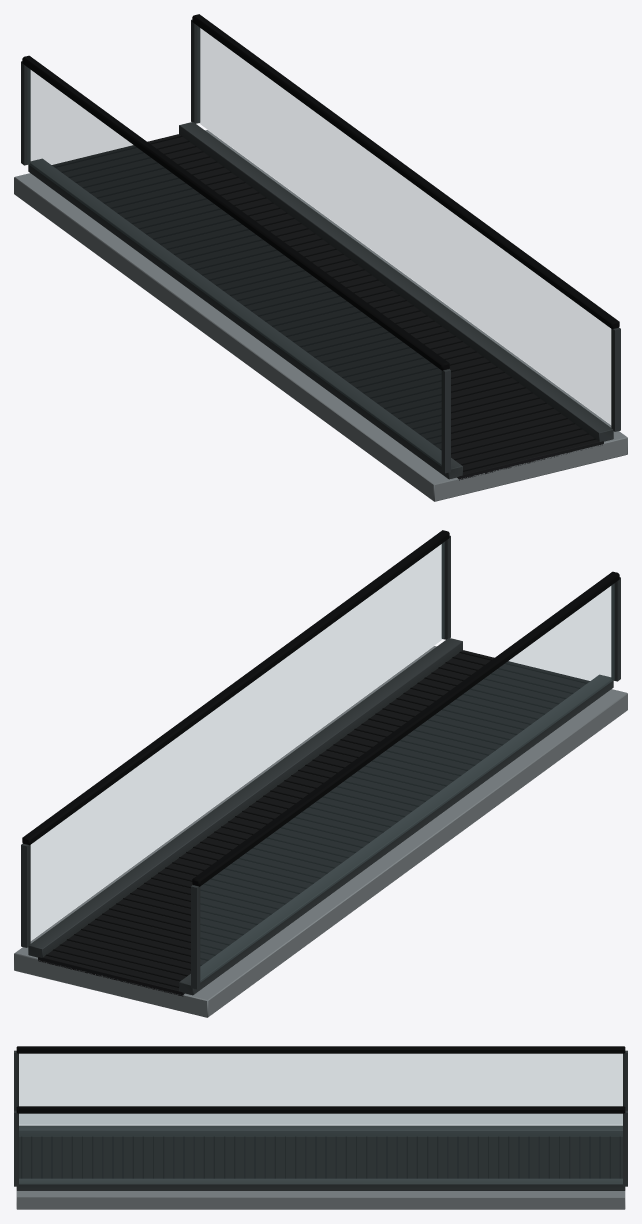
File: ap-travelator.glb
3 views of the same model, one above another, from view 1: azimuth 30°, elevation 25°; view 2: azimuth 150°, elevation 25°; view 3: azimuth 270°, elevation 25° (orthographic). The views are drawn at different scales.
Parts seen in each view (by area): view 1: balustrade__glass, belt__rubber, frame__steel, handrail__rubber; view 2: balustrade__glass, belt__rubber, frame__steel, handrail__rubber; view 3: balustrade__glass, frame__steel, belt__rubber, handrail__rubber.
Part boxes in pixels (<box>): balustrade__glass: <box>27,26,610,465</box>; belt__rubber: <box>52,134,603,480</box>; frame__steel: <box>14,19,627,501</box>; handrail__rubber: <box>22,14,619,370</box>; balustrade__glass: <box>31,542,614,981</box>; belt__rubber: <box>38,650,589,996</box>; frame__steel: <box>14,535,627,1017</box>; handrail__rubber: <box>22,530,619,886</box>; balustrade__glass: <box>19,1054,622,1184</box>; frame__steel: <box>14,1050,627,1209</box>; belt__rubber: <box>19,1136,622,1178</box>; handrail__rubber: <box>16,1046,625,1113</box>.
Size of the model in its own units: 1.6 by 1.07 by 6.05.
